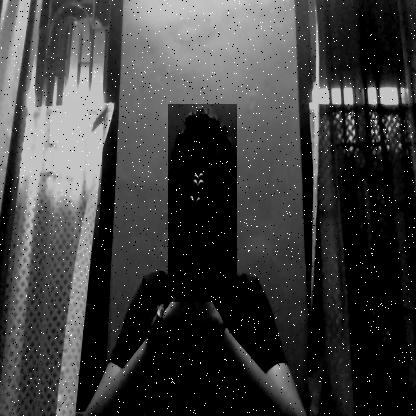Normal: (168, 104, 237, 302)
